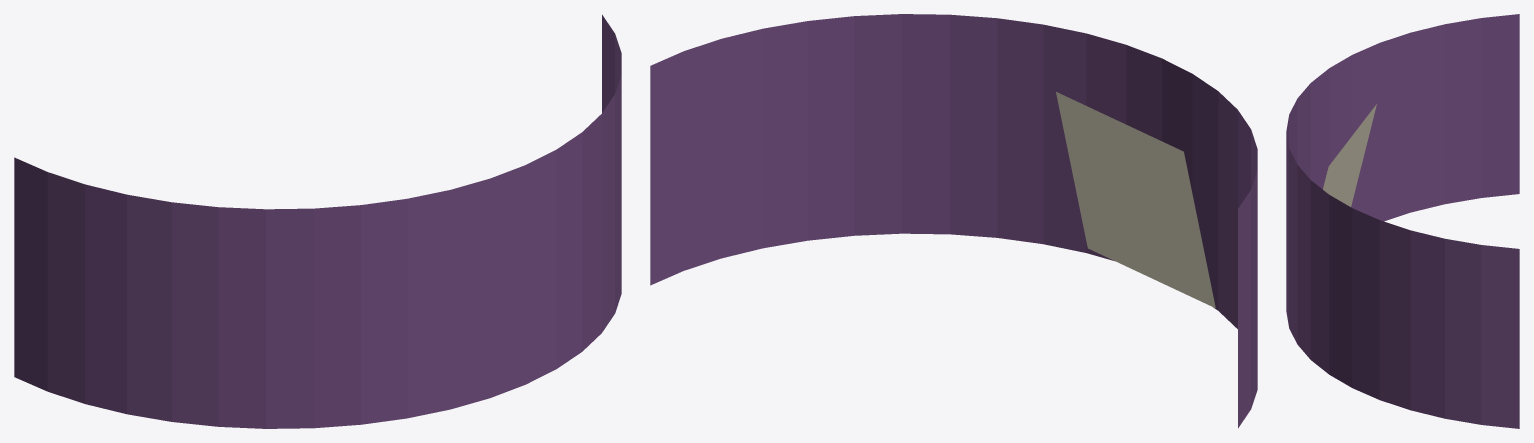
Rendered from Env_Sky.fbx.
3 views of the same model, side by side, from view 1: azimuth 30°, elevation 25°; view 2: azimuth 150°, elevation 25°; view 3: azimuth 270°, elevation 25° (orthographic). The views are drawn at different scales.
Visible parts, largest first — view 1: Backdrop; view 2: Backdrop, Moon; view 3: Backdrop, Moon.
Boxes of the visible parts, box(x1,y1,x2,y2) form: Backdrop: box(14, 14, 621, 428); Backdrop: box(650, 14, 1257, 428); Moon: box(1056, 92, 1215, 307); Backdrop: box(1286, 14, 1519, 428); Moon: box(1323, 104, 1376, 206).
Bounding box in the file's own units: 106 × 38 × 44.62.
